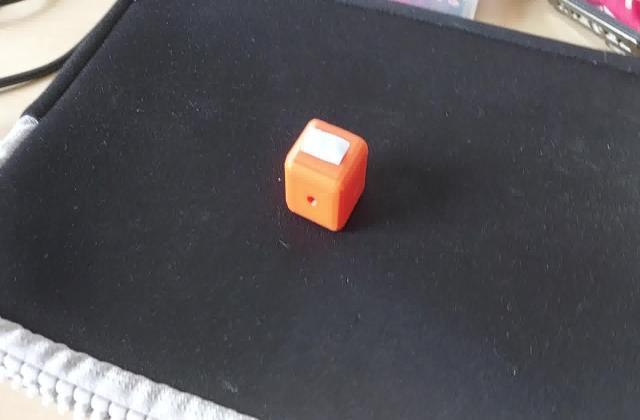sticker: (282, 117, 373, 237)
white: (304, 133, 354, 168)
